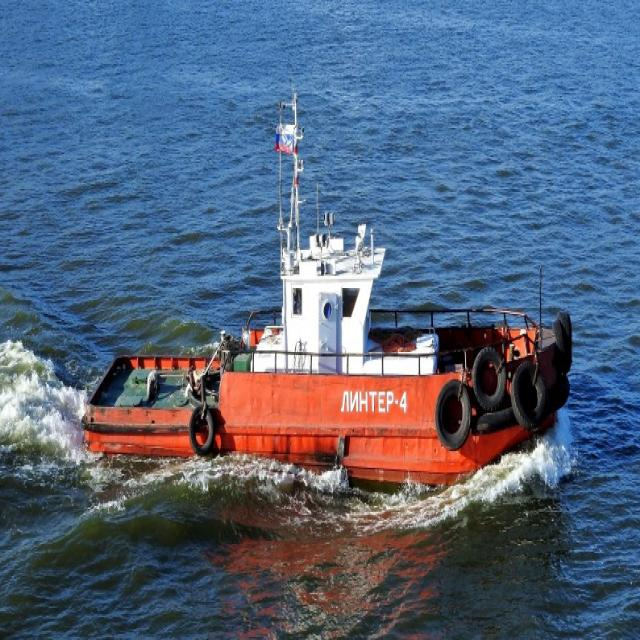tugboat: (79, 210, 578, 508)
